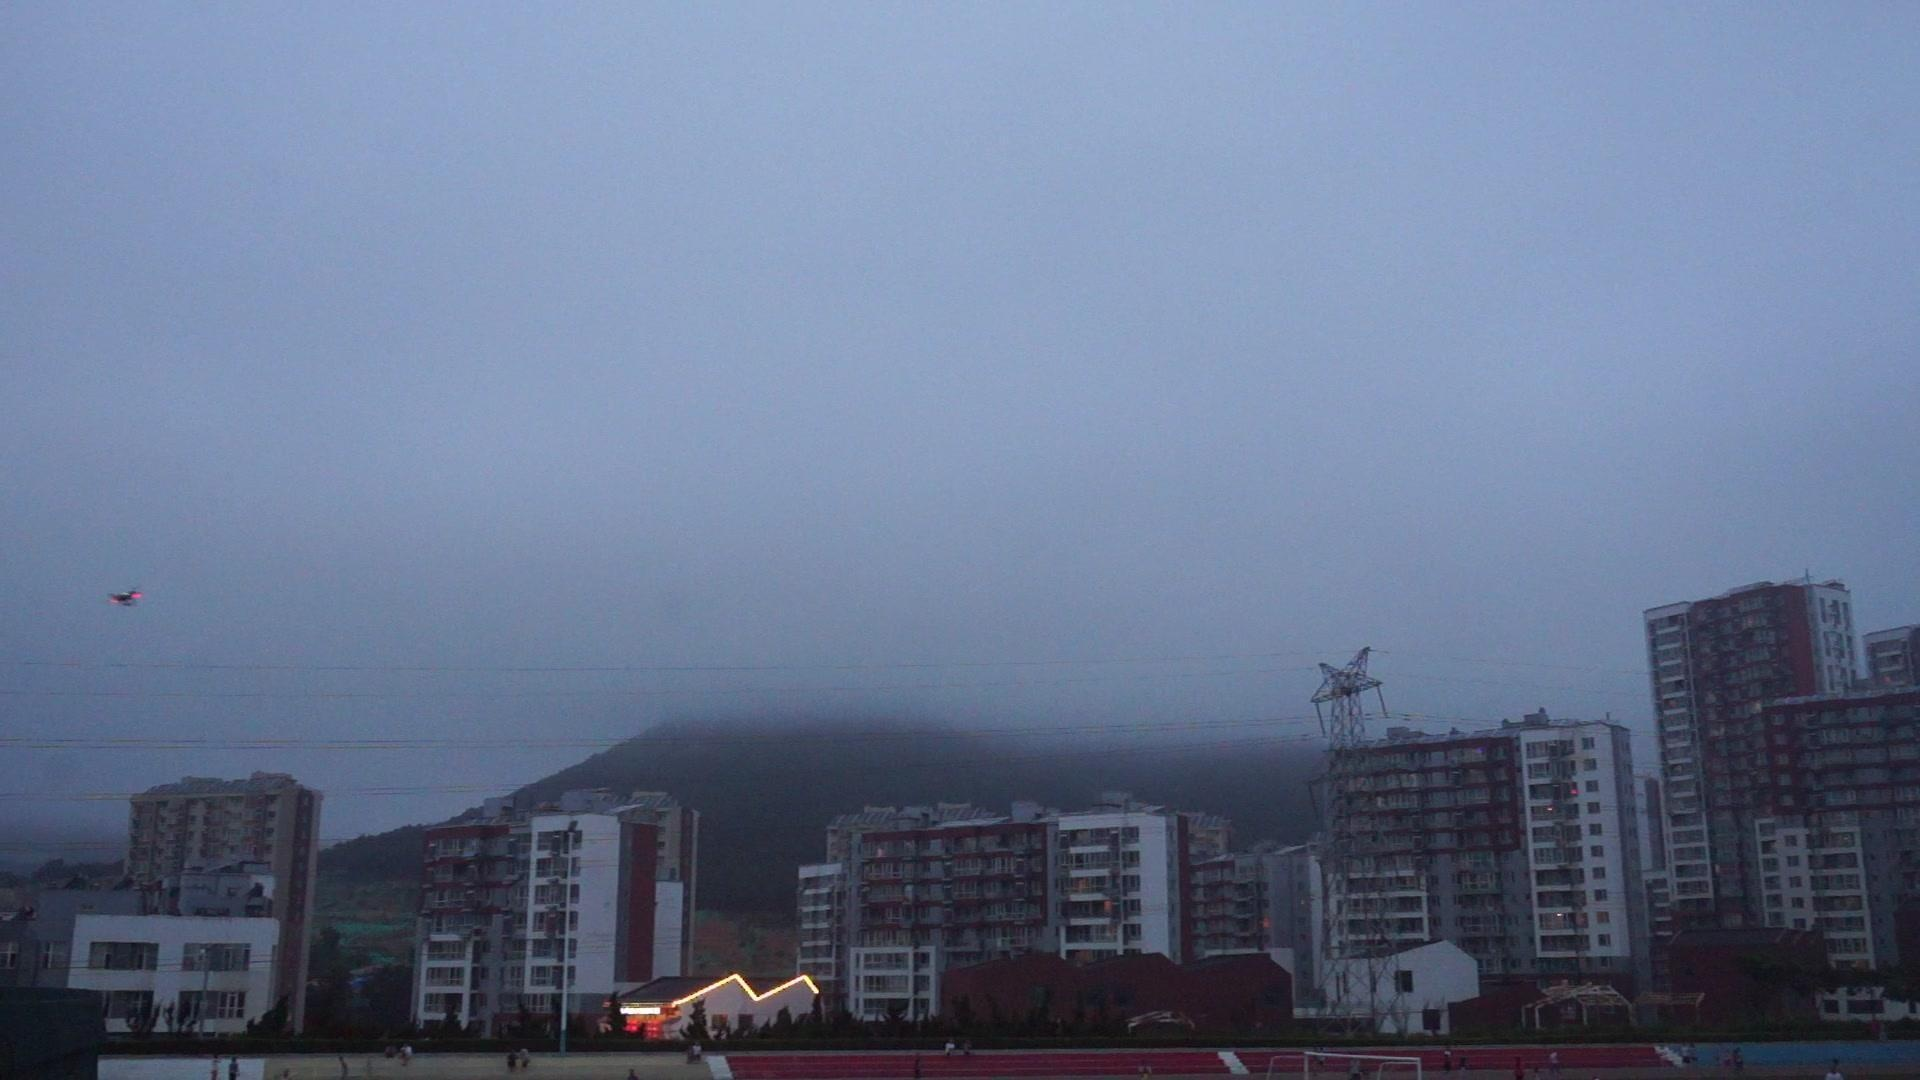UAV: (107, 589, 145, 608)
